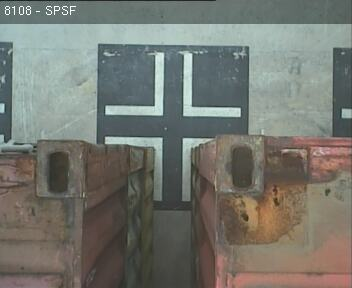groundmarker_1: (104, 55, 240, 119), (103, 137, 212, 200)
